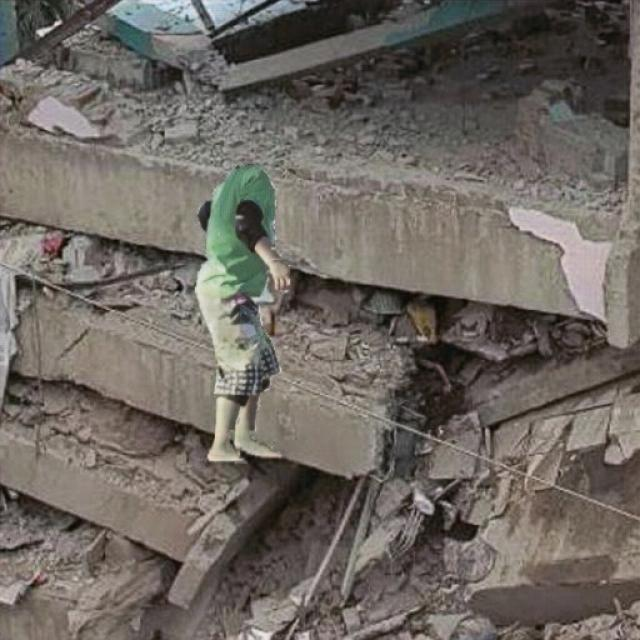Person in Rubble: (195, 164, 289, 462)
